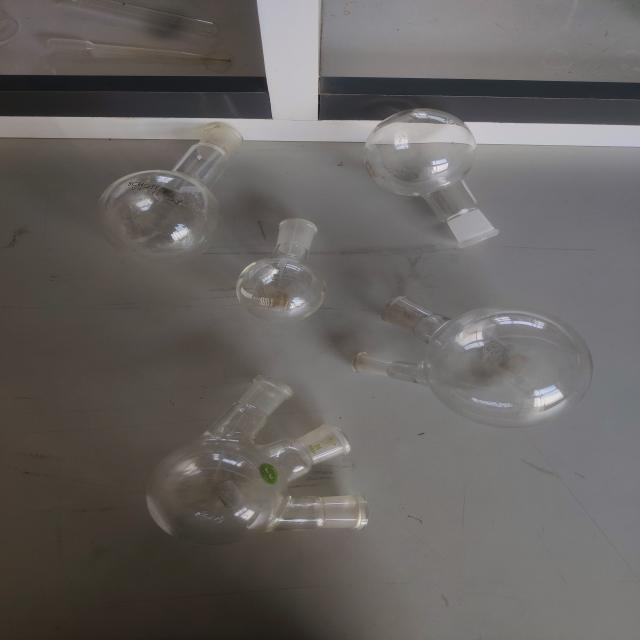Round_Bottom_Flask_Borosilicate_Glass_1_Neck: (350, 90, 536, 261), (96, 85, 236, 281), (222, 195, 348, 328)
Round_Bottom_Flask_Borosilicate_Glass_2_Neck: (329, 274, 615, 444)
Round_Bottom_Flask_Borosilicate_Glass_3_Neck: (118, 363, 404, 573)
